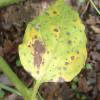Tomato Early blight leaf: (20, 2, 87, 87)
